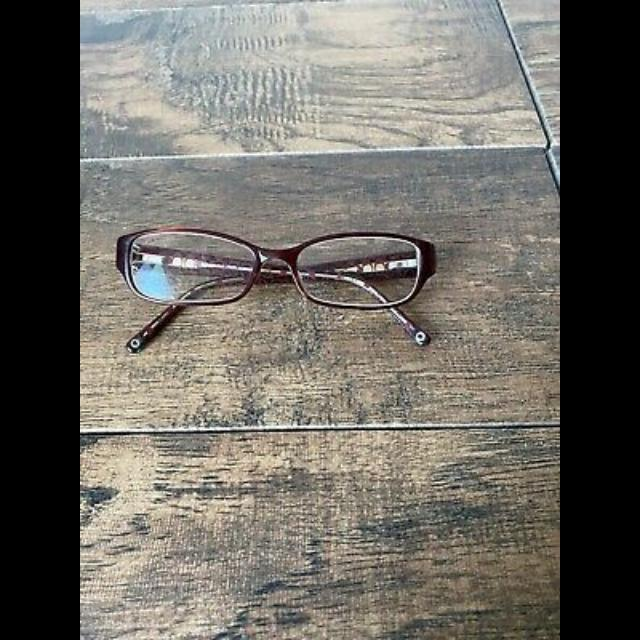mask: (105, 228, 442, 356)
